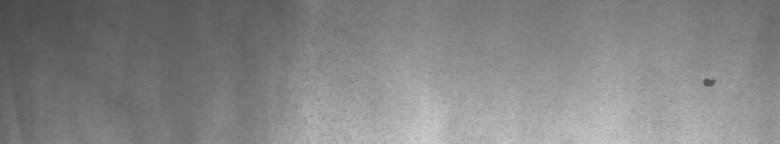fi: (700, 68, 719, 96)
